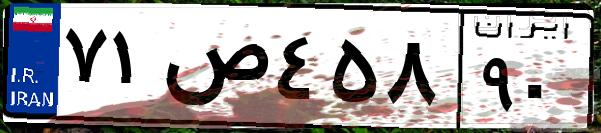0: (525, 38, 570, 115)
1: (110, 28, 158, 98)
4: (270, 28, 330, 110)
5: (330, 28, 385, 110)
7: (57, 26, 110, 100)
8: (385, 28, 445, 110)
9: (475, 38, 525, 113)
ص: (158, 20, 270, 120)
